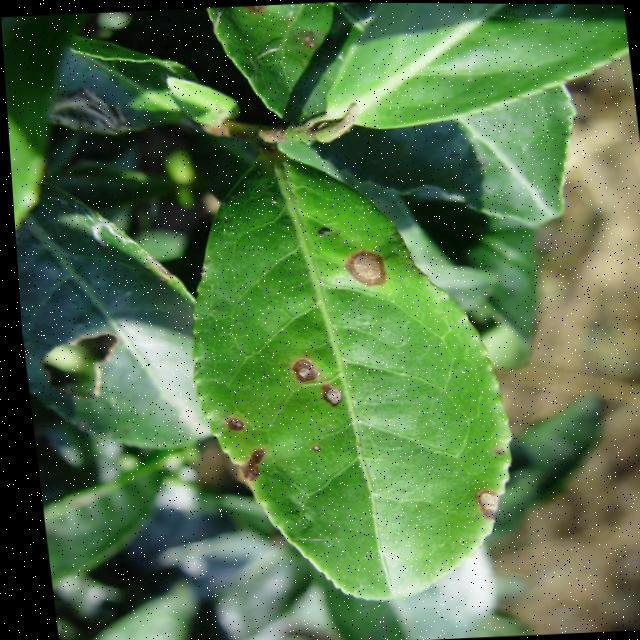Tea cloud leaf blight: (335, 241, 387, 292), (281, 351, 318, 386), (306, 382, 340, 406)
